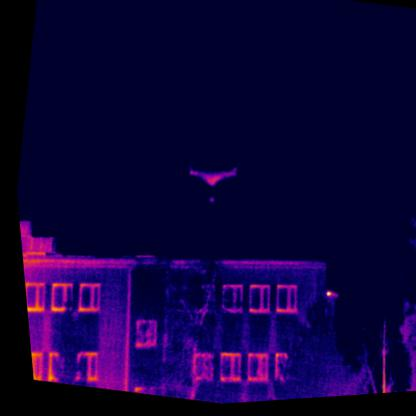drone: (178, 159, 237, 209)
